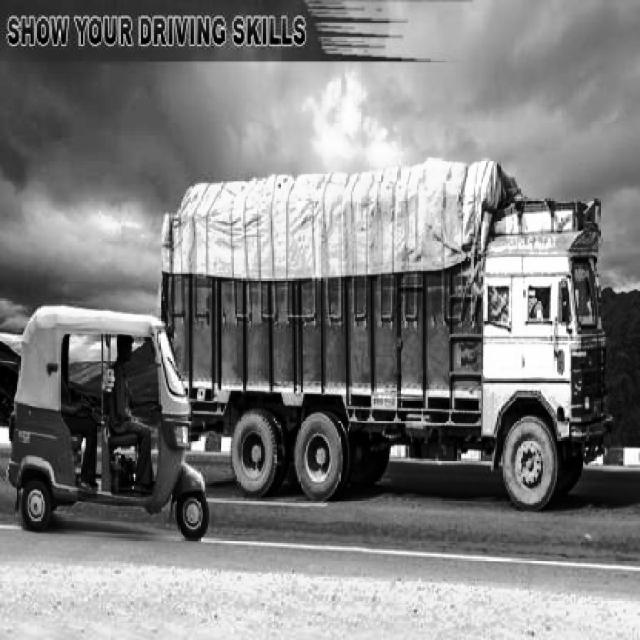HCV: (166, 169, 607, 497)
